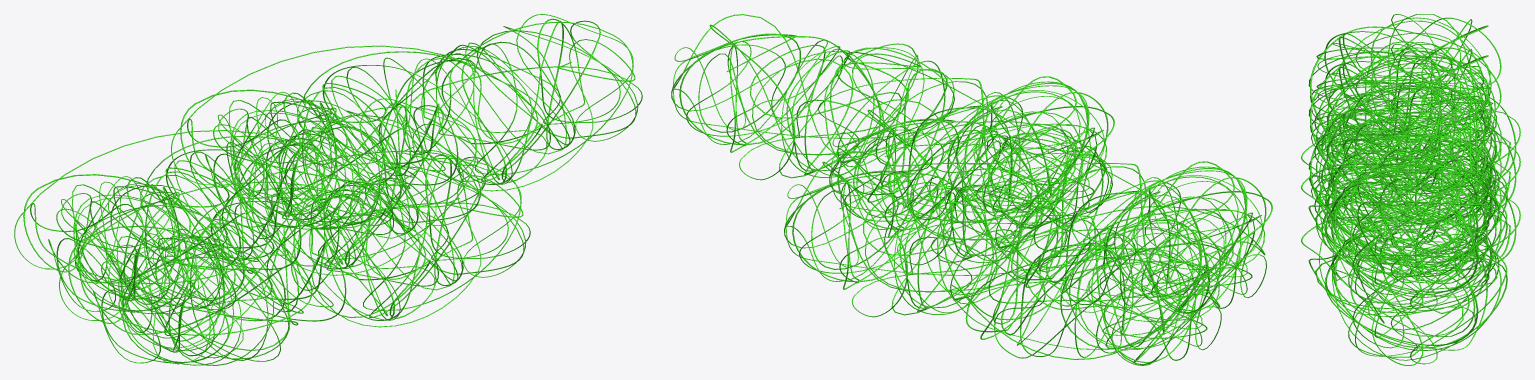
File: Splinebush.fbx
3 renders of one model, left to right at view 1: azimuth 30°, elevation 25°; view 2: azimuth 150°, elevation 25°; view 3: azimuth 270°, elevation 25°, orthographic. The views are drawn at different scales.
Parts seen in each view (by area): view 1: SplineBush; view 2: SplineBush; view 3: SplineBush.
Boxes of the visible parts, x1=… form: SplineBush: x1=14, y1=14, x2=642, y2=365; SplineBush: x1=671, y1=14, x2=1272, y2=365; SplineBush: x1=1301, y1=14, x2=1520, y2=365.
Bounding box in the file's own units: 3030 × 1249 × 999.
